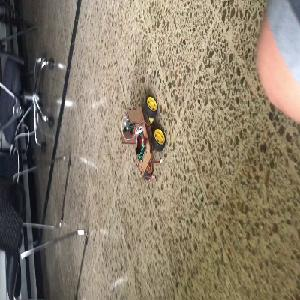Robot: (119, 95, 166, 179)
